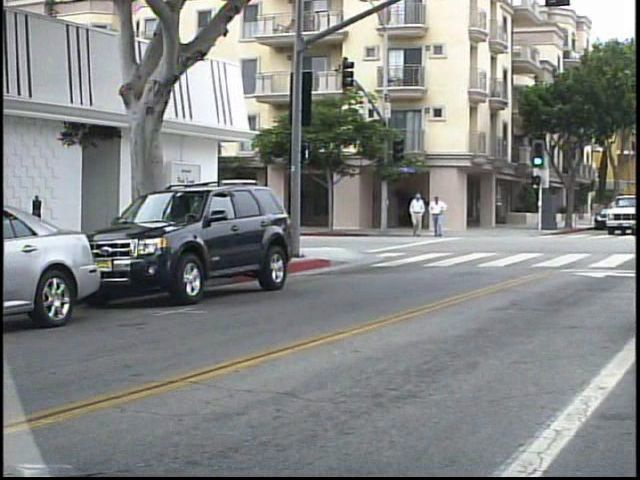person: (425, 192, 448, 242), (405, 190, 425, 243)
